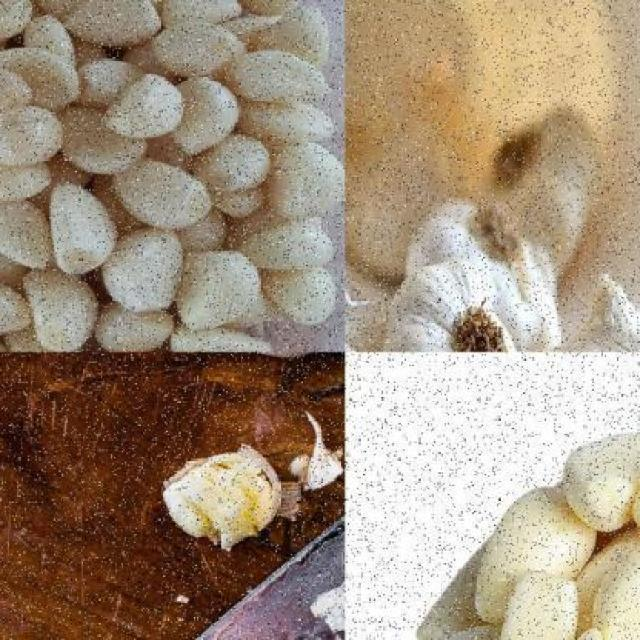garlic: (1, 0, 344, 351), (420, 426, 638, 640), (378, 255, 550, 352), (158, 442, 304, 556), (110, 157, 217, 232), (46, 176, 124, 278), (174, 248, 267, 332), (100, 71, 189, 136), (228, 49, 330, 101), (150, 23, 255, 70)
